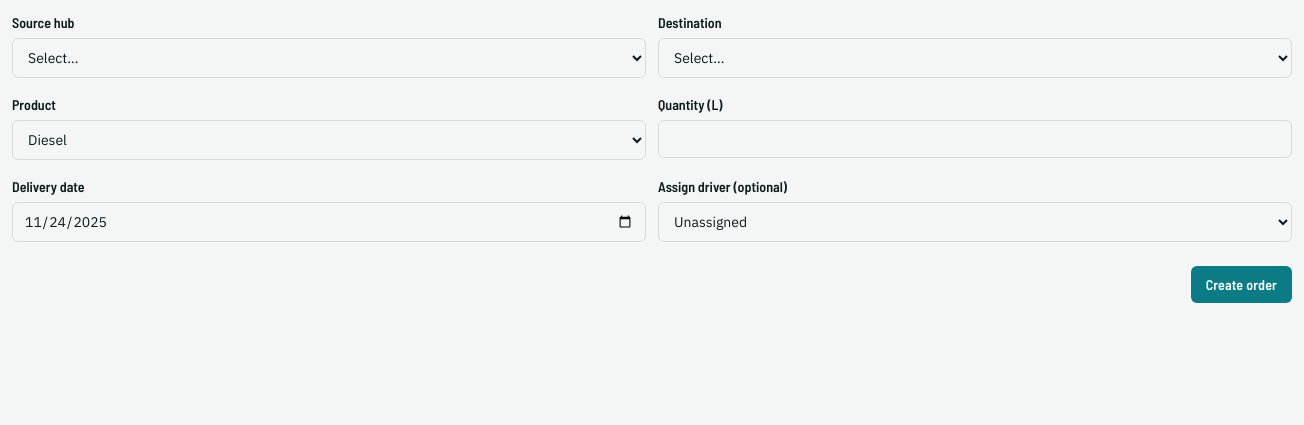
Scenario: OrderForm › blocks submission when source equals destination
Select "Downtown" in the dropdown labelled "Source hub": (329, 58) [12, 38, 646, 78]
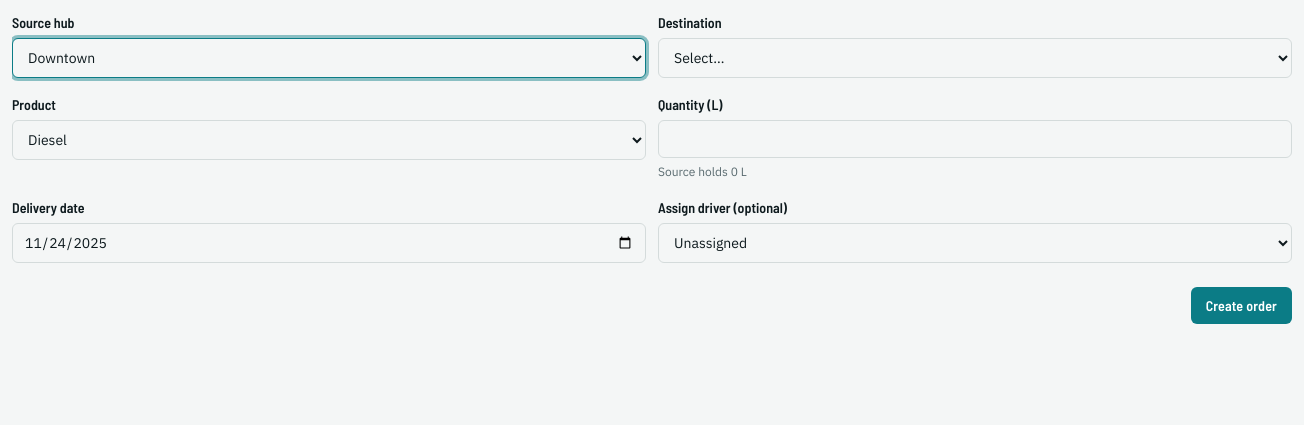
Select "Downtown" in the dropdown labelled "Destination": (975, 58) [658, 38, 1292, 78]
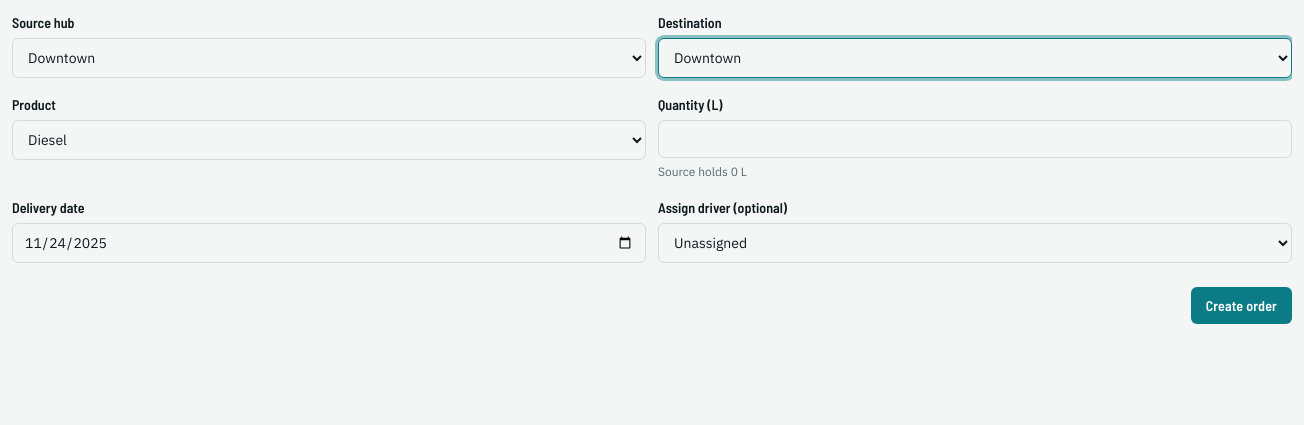
Select "Diesel" in the dropdown labelled "Product": (329, 140) [12, 120, 646, 160]
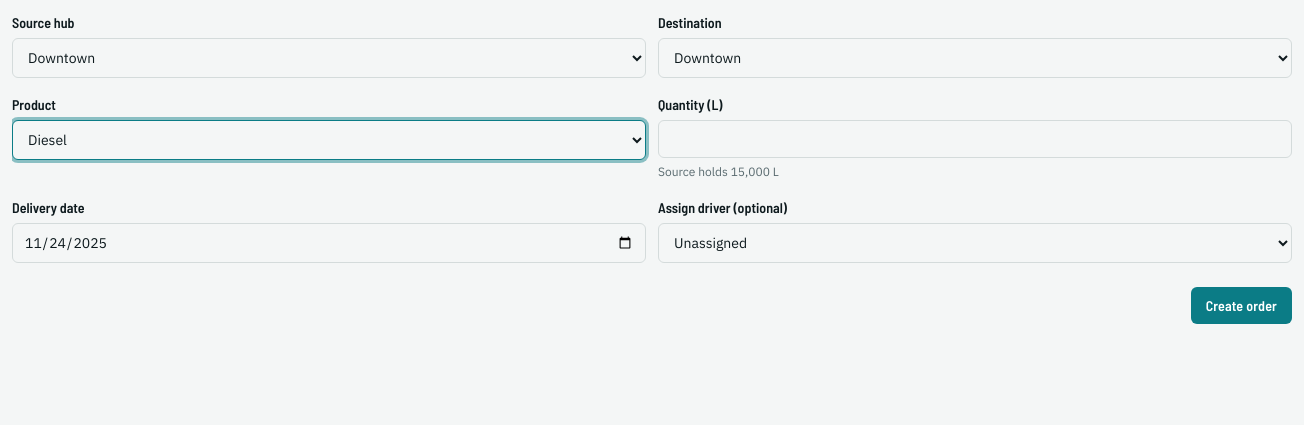
In the number field labelled "Quantity (L) Source holds 15,000 L": (975, 139) [658, 120, 1292, 158], type "5000"
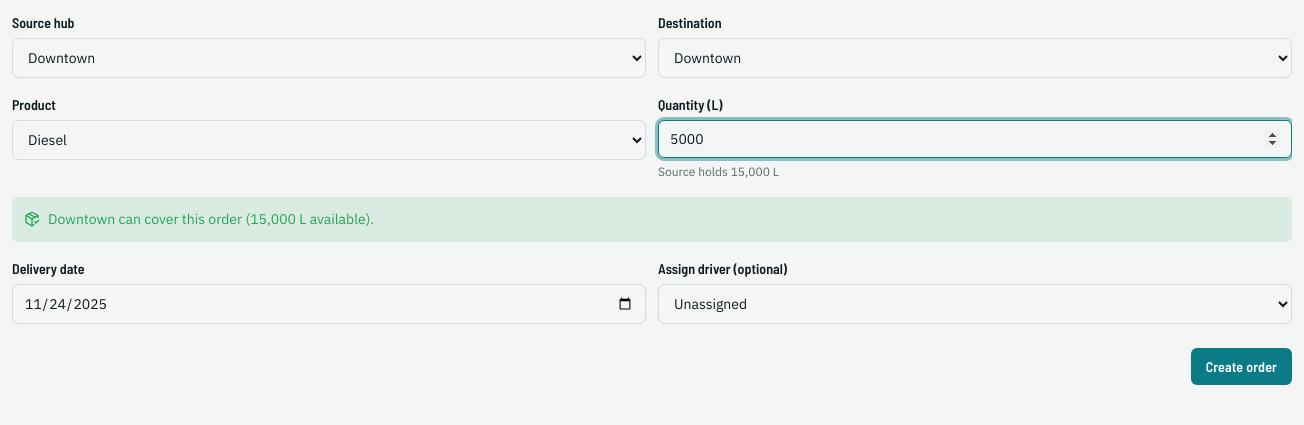
Click the button "Create order": click(1241, 366) [1191, 348, 1292, 385]
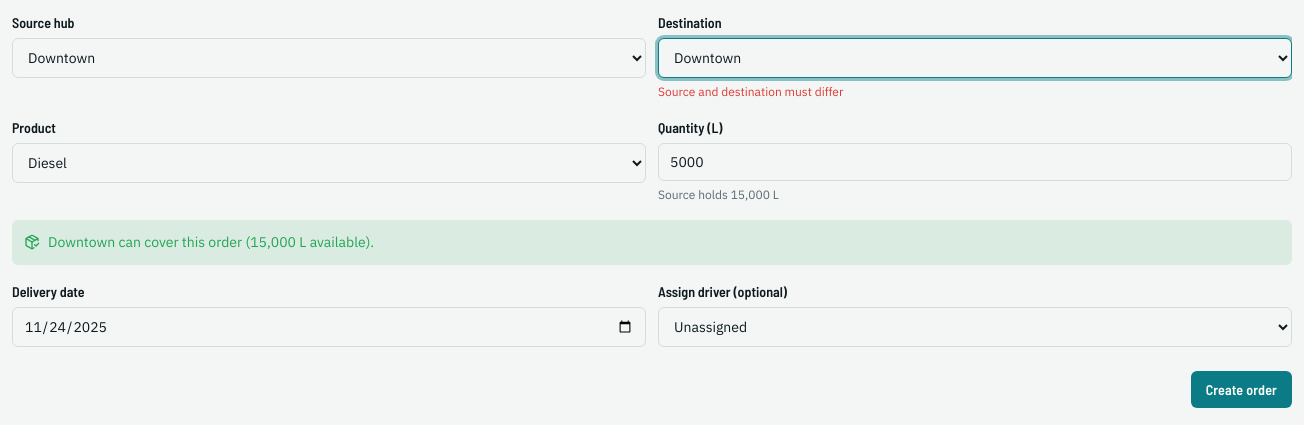
Check: the text "Source and destination must differ" is shown, box [658, 84, 843, 99]
